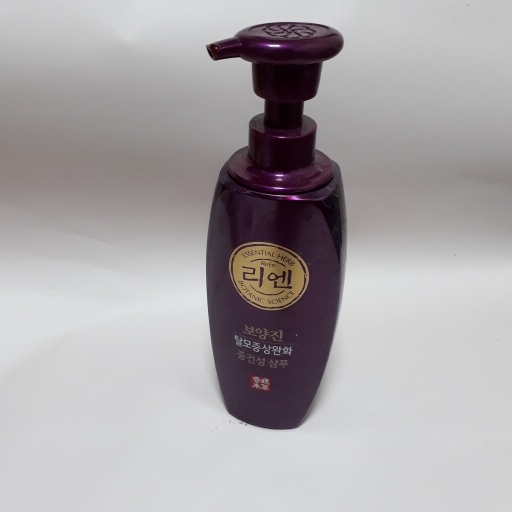Plastic_3: (200, 20, 349, 429)
